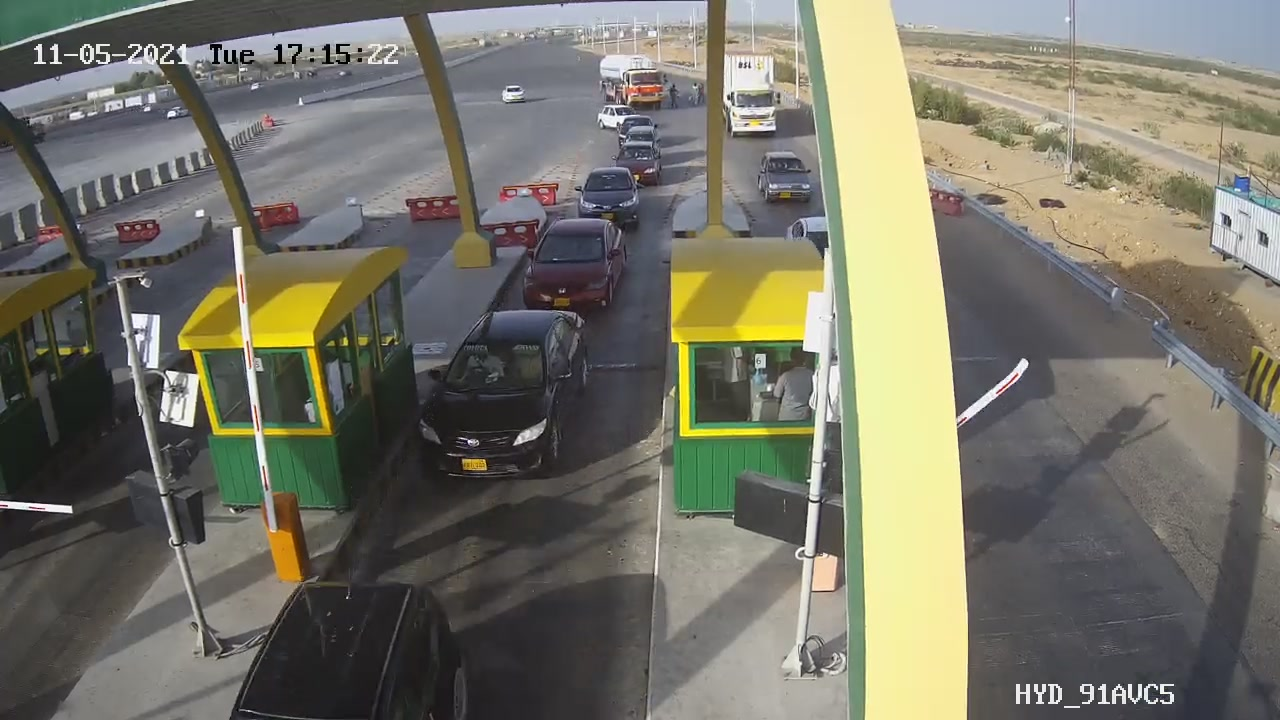F1: (404, 300, 608, 491), (505, 201, 643, 329)
